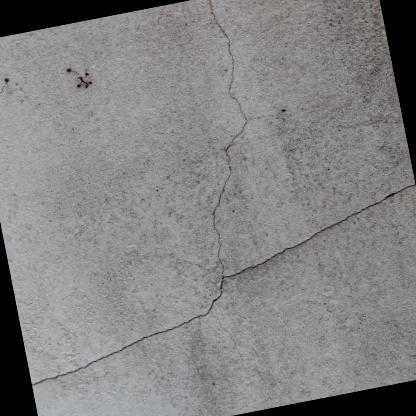crack: (30, 0, 415, 386)
